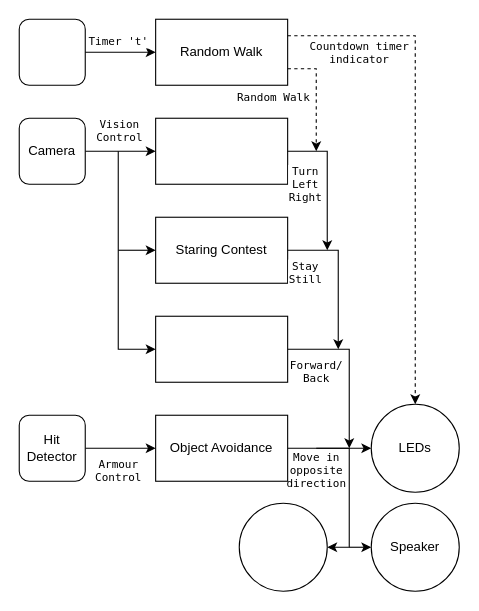
Image size: 479x611. Some labels were removed from this diagram. Each missing label, with the centre of its shape:
"Internal Timer" belongs at point (51, 51).
"Look for Person" belongs at point (221, 150).
"Maintain Distance from person" belongs at point (221, 348).
"Motor" belongs at point (282, 546).
